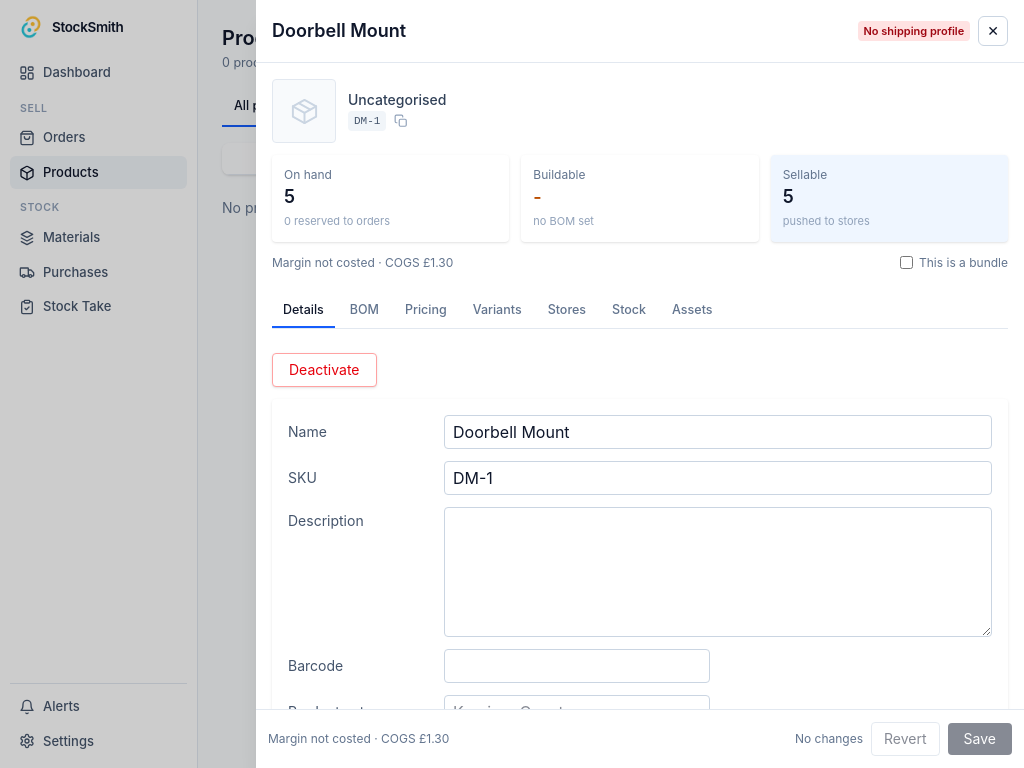
Test: product detail page › the footer Revert discards a buffered edit without a PUT
Click the button "BOM" at point(364, 312), box [339,296,390,328]
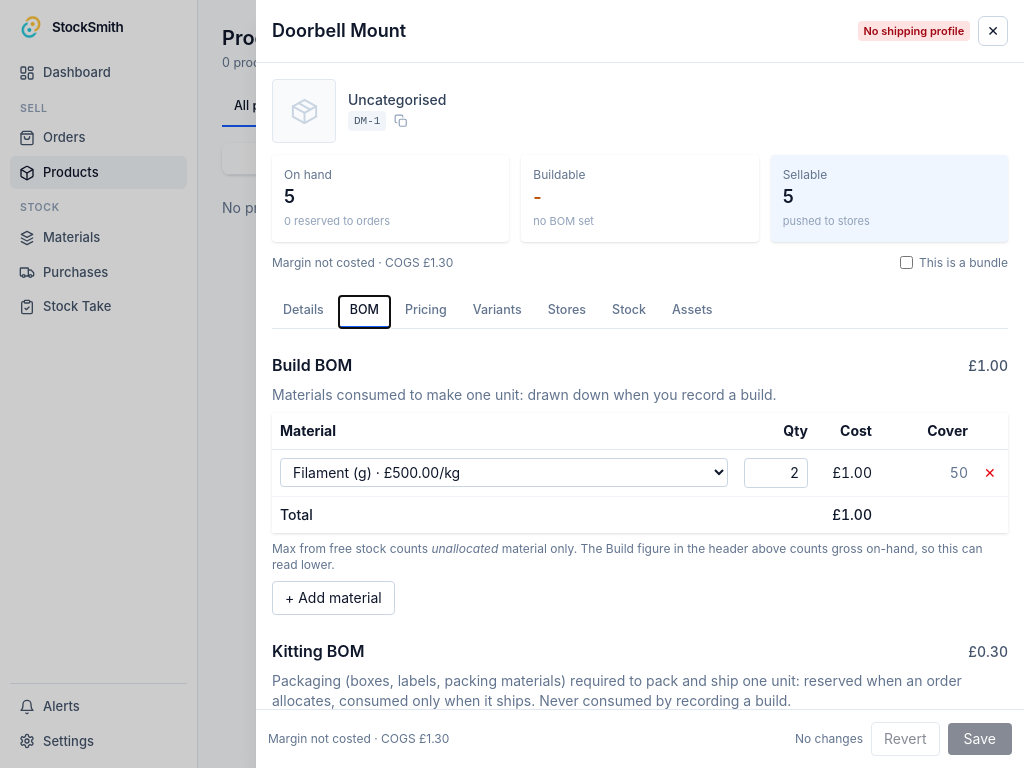
Replace the text in the field showing "2" with "7" at point(776, 472), box [744,458,808,488]
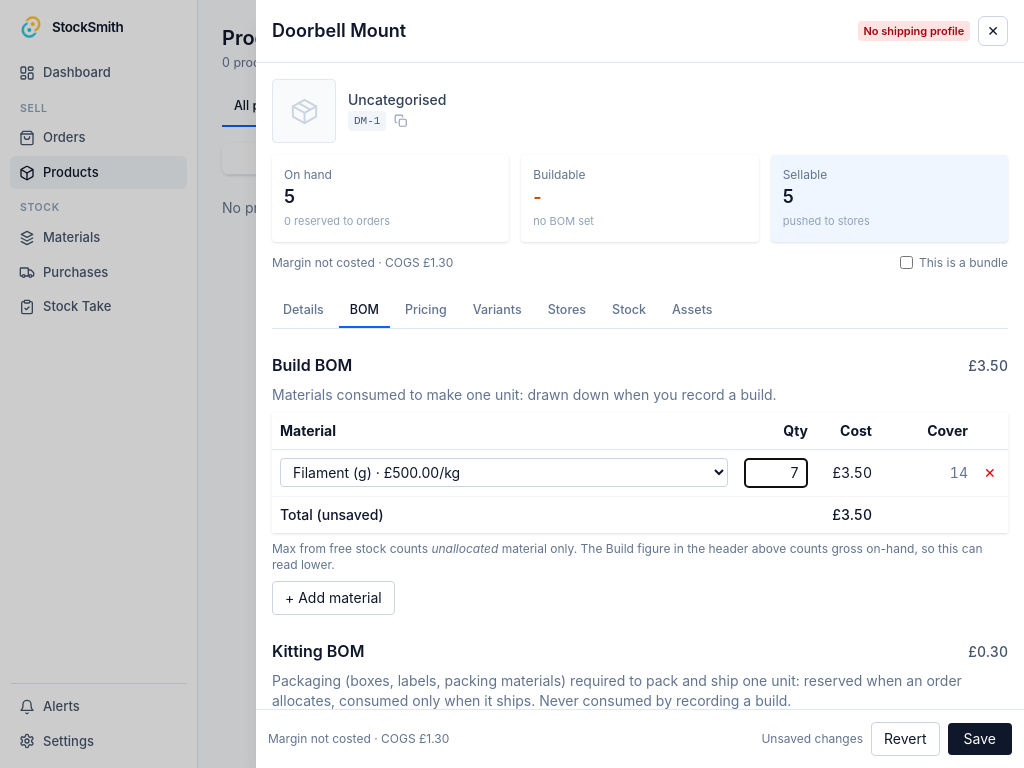
Now the text "Unsaved changes" is shown, box [761,730,863,748]
Click the button "Revert" at point(905, 739), box [871,722,940,756]
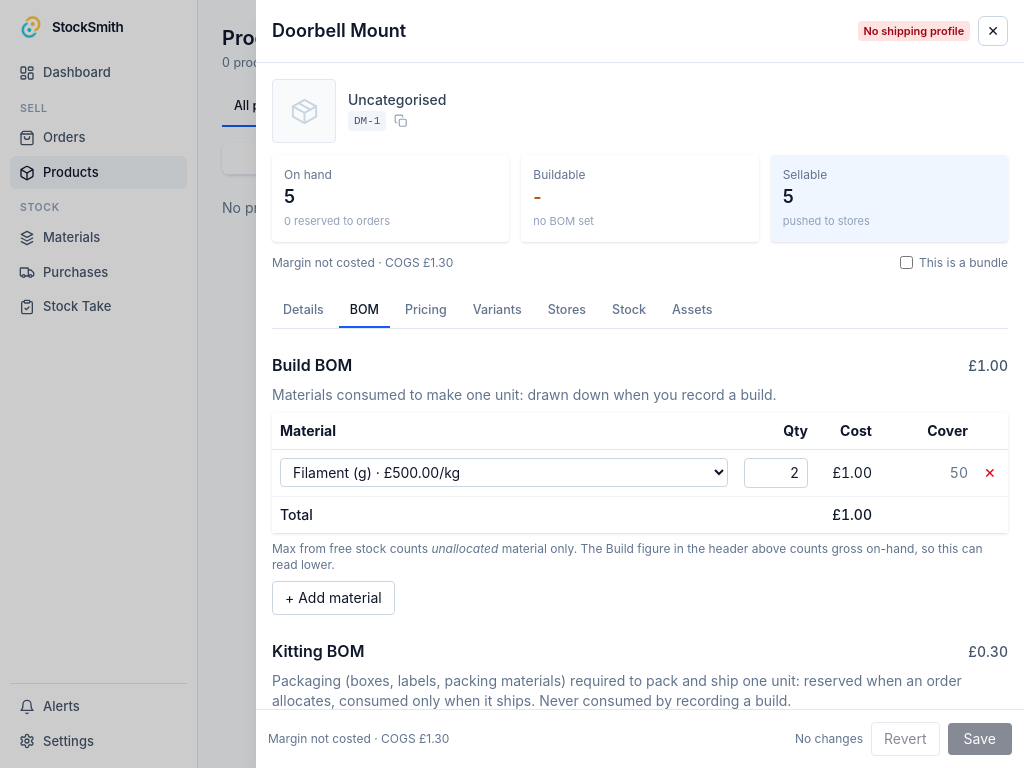
Expected: the field showing "2" is shown, [744,458,808,488]
Now the text "No changes" is shown, box [795,730,863,748]
